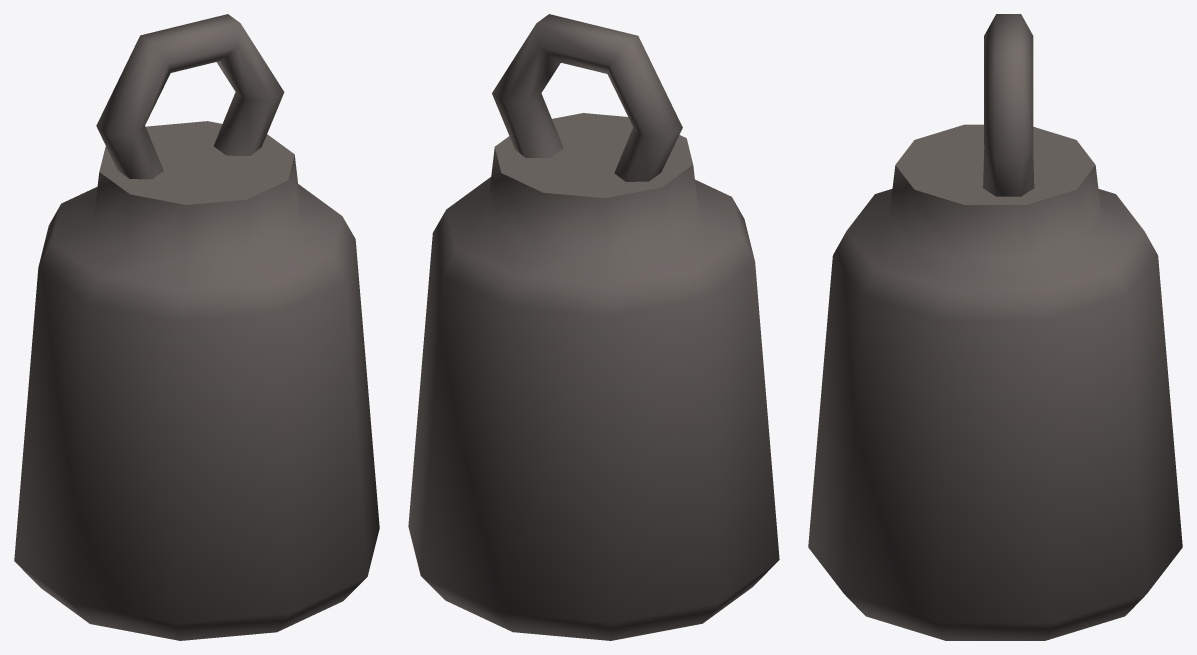
Rendered from Weight3.fbx.
3 views of the same model, side by side, from view 1: azimuth 30°, elevation 25°; view 2: azimuth 150°, elevation 25°; view 3: azimuth 270°, elevation 25° (orthographic).
Visible parts, largest first — view 1: Weight3; view 2: Weight3; view 3: Weight3.
Boxes of the visible parts, x1,y1,x2,y2 form: Weight3: (14, 14, 379, 640); Weight3: (408, 14, 779, 640); Weight3: (808, 14, 1182, 640).
Size of the model in its own units: 3.35 by 5.61 by 3.52.
